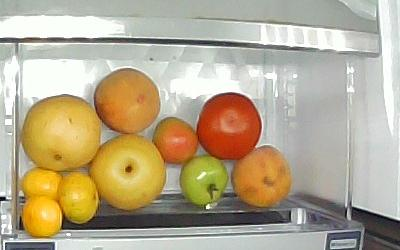peach: (94, 68, 161, 135), (232, 144, 293, 208)
pear: (22, 94, 101, 172), (90, 135, 167, 210)
tangerine: (59, 173, 100, 224), (22, 197, 63, 239), (20, 167, 60, 200)
tomato: (197, 92, 262, 161), (180, 154, 228, 207), (154, 118, 199, 165)
